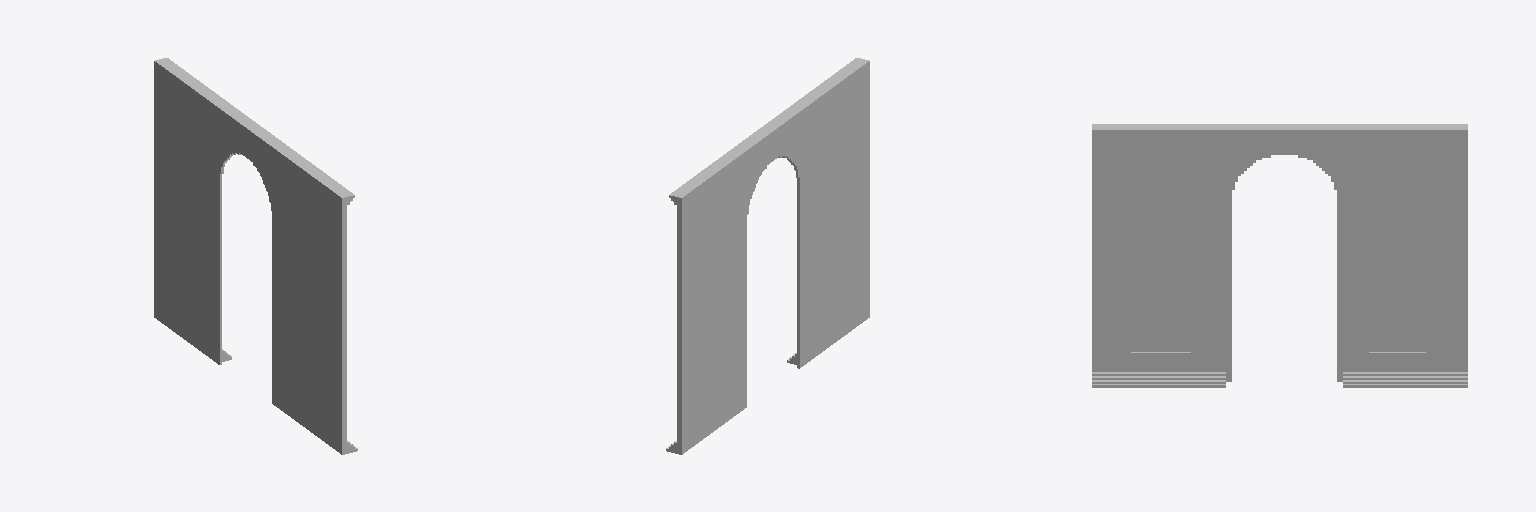
File: wall3.obj
The picture shows the model from 3 angles: view 1: azimuth 30°, elevation 25°; view 2: azimuth 150°, elevation 25°; view 3: azimuth 270°, elevation 25°; orthographic projection.
Size of the model in its own units: 6 by 95 by 126.